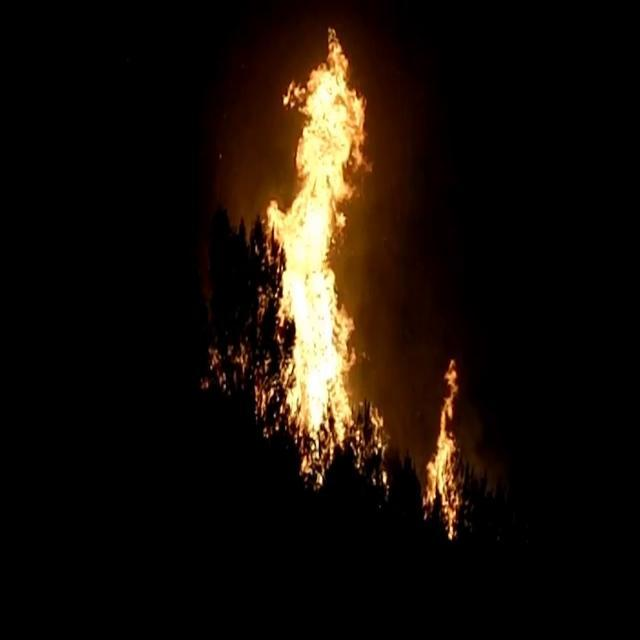Fire: (267, 28, 367, 489), (424, 360, 461, 542)
